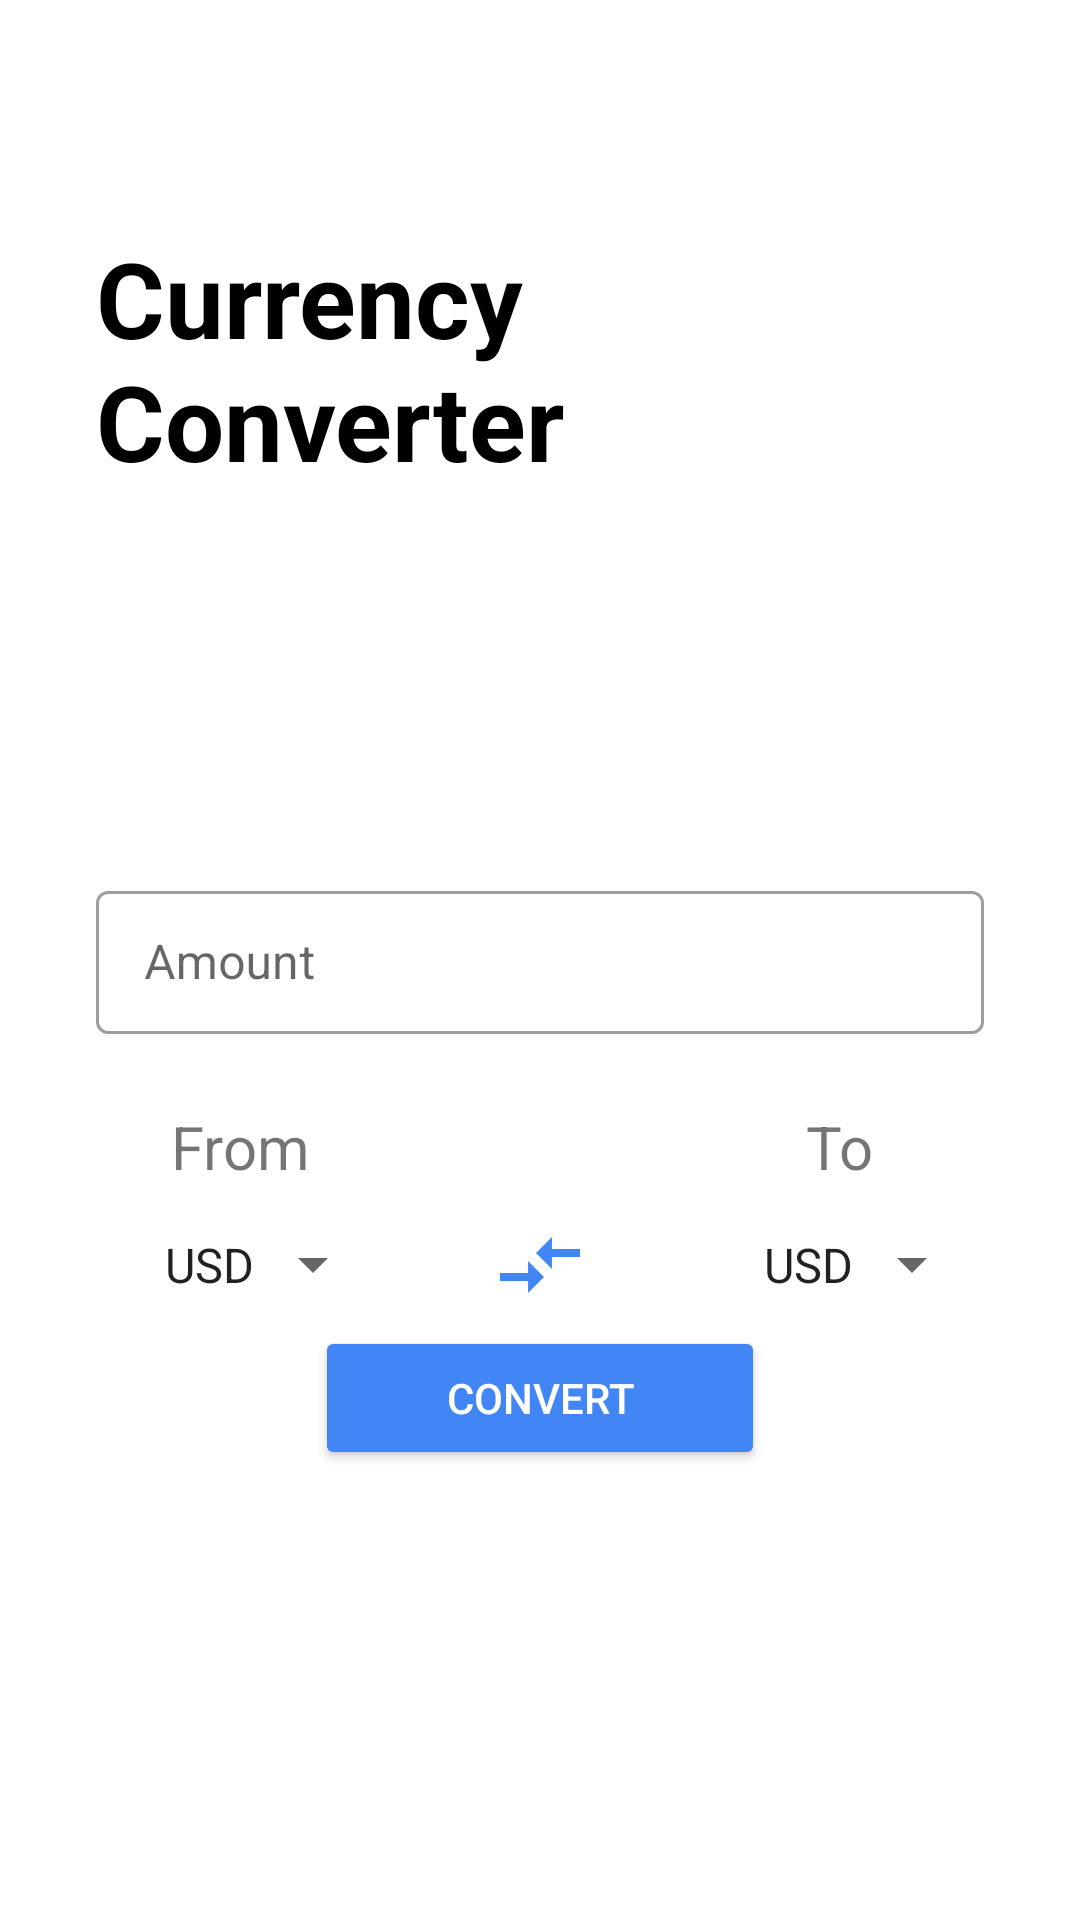

Named icons in this screenshot (1080px x 1920px) and their centers, (x=x, y=y):
arrows: (x=540, y=1265)
